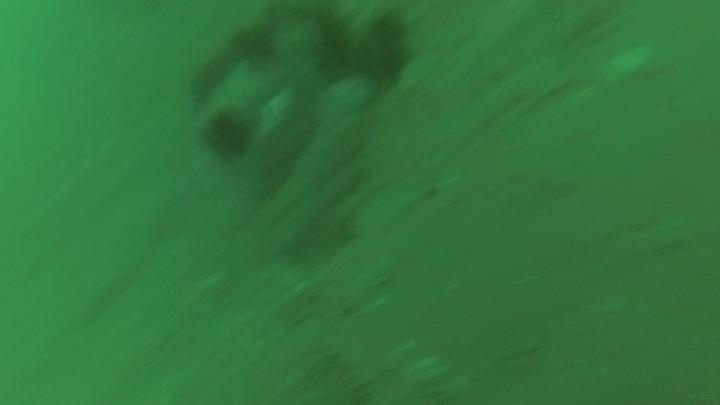echinus: (350, 13, 416, 89), (203, 107, 255, 160), (228, 23, 278, 65)
holothurian: (305, 329, 388, 405)
scallop: (317, 72, 379, 122)
